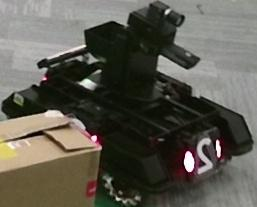armor_2: (184, 139, 222, 172)
